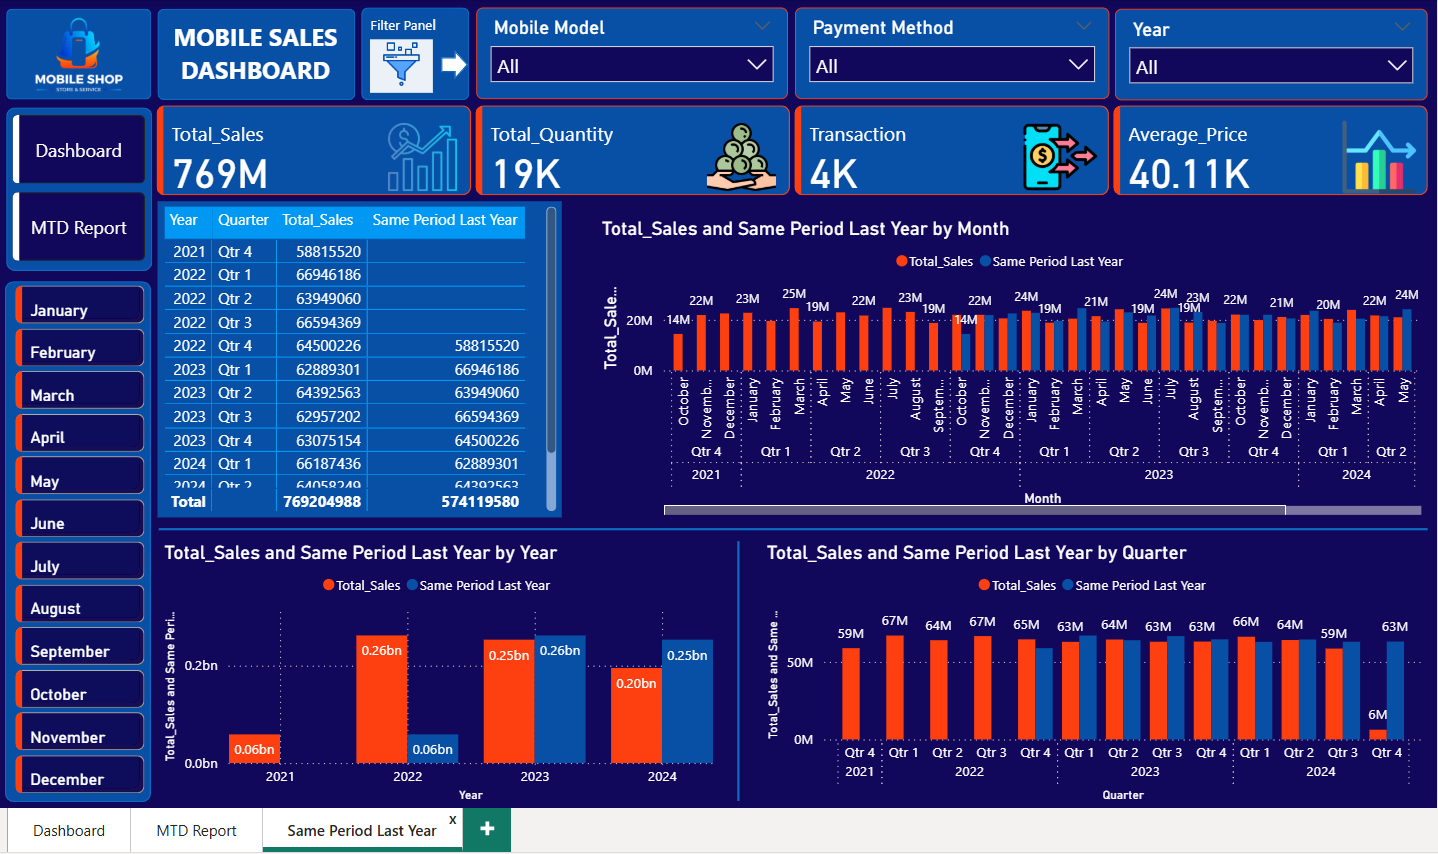

The dashboard page shown, as its layout file describes it:
{"tool":"powerbi","page":{"name":"Same Period Last Year","canvas":[1280,720],"ordinal":2},"visuals":[{"type":"shape","box":[6,7.2,129.1,80.8],"z":0},{"type":"image","box":[13.3,0,113.3,103.3],"z":1000},{"type":"shape","box":[5.6,95.6,130,145.6],"z":2000},{"type":"cardVisual","fields":{"Data":["mobile sales data.Total_Sales","mobile sales data.Total_Quantity","mobile sales data.Transaction","mobile sales data.Average_Price"]},"box":[135,88.8,1145,90],"z":3000},{"type":"slicer","title":"Mobile Model","fields":{"Values":["mobile sales data.Mobile Model"]},"box":[423.8,6.2,277.5,81.2],"z":4000},{"type":"slicer","fields":{"Values":["mobile sales data.Payment Method"]},"box":[707.5,6.2,280,81.2],"z":5000},{"type":"slicer","fields":{"Values":["Custom_calendar.Date.Variation.Date Hierarchy.Year"]},"box":[992.5,7.5,278.8,81.2],"z":6000},{"type":"shape","box":[321.2,6.2,96.2,82.5],"z":7000},{"type":"image","box":[330,32.5,56.2,50],"z":8000},{"type":"shape","box":[392.5,45,23.8,26.2],"z":9000},{"type":"textbox","box":[325,7.5,80,27.5],"z":10000},{"type":"shape","box":[140,7.5,176.2,81.2],"z":11000},{"type":"textbox","box":[137.5,13.8,178.8,70],"z":12000},{"type":"shape","box":[5,250,130,463.8],"z":14000},{"type":"advancedSlicerVisual","fields":{"Values":["Custom_calendar.Date.Variation.Date Hierarchy.Month"]},"box":[8.4,249.7,125.5,463.3],"z":15000},{"type":"tableEx","fields":{"Values":["Custom_calendar.Date.Variation.Date Hierarchy.Year","Custom_calendar.Date.Variation.Date Hierarchy.Quarter","mobile sales data.Total_Sales","mobile sales data.Same Period Last Year"]},"box":[140,178.8,360,281.2],"z":15001},{"type":"clusteredColumnChart","fields":{"Category":["Custom_calendar.Date.Variation.Date Hierarchy.Year","Custom_calendar.Date.Variation.Date Hierarchy.Quarter"],"Y":["mobile sales data.Total_Sales","mobile sales data.Same Period Last Year"]},"box":[141.2,482.5,498.8,237.5],"z":15002},{"type":"clusteredColumnChart","title":"Total_Sales and Same Period Last Year by Quarter","fields":{"Category":["Custom_calendar.Date.Variation.Date Hierarchy.Year","Custom_calendar.Date.Variation.Date Hierarchy.Quarter"],"Y":["mobile sales data.Total_Sales","mobile sales data.Same Period Last Year"]},"box":[677.5,482.5,593.8,237.5],"z":15003},{"type":"clusteredColumnChart","title":"Total_Sales and Same Period Last Year by Month","fields":{"Y":["mobile sales data.Total_Sales","mobile sales data.Same Period Last Year"],"Category":["Custom_calendar.Date.Variation.Date Hierarchy.Year","Custom_calendar.Date.Variation.Date Hierarchy.Quarter","Custom_calendar.Date.Variation.Date Hierarchy.Month","Custom_calendar.Date.Variation.Date Hierarchy.Day"]},"box":[531.2,193.8,740,270],"z":15004},{"type":"shape","box":[141.2,457.5,1130,27.5],"z":15005},{"type":"shape","box":[640,482.5,35,231.2],"z":15006},{"type":"pageNavigator","box":[11.2,102.5,118.8,131.2],"z":15007}]}

Visuals, with their boxes on the page's 1280x720 design canvas (x1, y1, x2, y2). These are canvas units, not pixel positions in the 1438x854 screenshot, which may show the page scaled, cropped or inside an application window:
shape: bbox(6, 7, 135, 88)
image: bbox(13, 0, 127, 103)
shape: bbox(6, 96, 136, 241)
cardVisual - mobile sales data.Total_Sales x mobile sales data.Total_Quantity: bbox(135, 89, 1280, 179)
"Mobile Model" slicer: bbox(424, 6, 701, 87)
slicer - mobile sales data.Payment Method: bbox(708, 6, 988, 87)
slicer - Custom_calendar.Date.Variation.Date Hierarchy.Year: bbox(992, 8, 1271, 89)
shape: bbox(321, 6, 417, 89)
image: bbox(330, 32, 386, 82)
shape: bbox(392, 45, 416, 71)
textbox: bbox(325, 8, 405, 35)
shape: bbox(140, 8, 316, 89)
textbox: bbox(138, 14, 316, 84)
shape: bbox(5, 250, 135, 714)
advancedSlicerVisual - Custom_calendar.Date.Variation.Date Hierarchy.Month: bbox(8, 250, 134, 713)
tableEx - Custom_calendar.Date.Variation.Date Hierarchy.Year x Custom_calendar.Date.Variation.Date Hierarchy.Quarter: bbox(140, 179, 500, 460)
clusteredColumnChart - Custom_calendar.Date.Variation.Date Hierarchy.Year x Custom_calendar.Date.Variation.Date Hierarchy.Quarter: bbox(141, 482, 640, 720)
"Total_Sales and Same Period Last Year by Quarter" clusteredColumnChart: bbox(678, 482, 1271, 720)
"Total_Sales and Same Period Last Year by Month" clusteredColumnChart: bbox(531, 194, 1271, 464)
shape: bbox(141, 458, 1271, 485)
shape: bbox(640, 482, 675, 714)
pageNavigator: bbox(11, 102, 130, 234)
